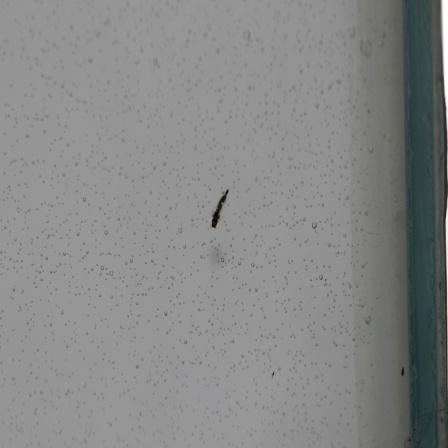Jentik-Nyamuk: (207, 186, 234, 234)
